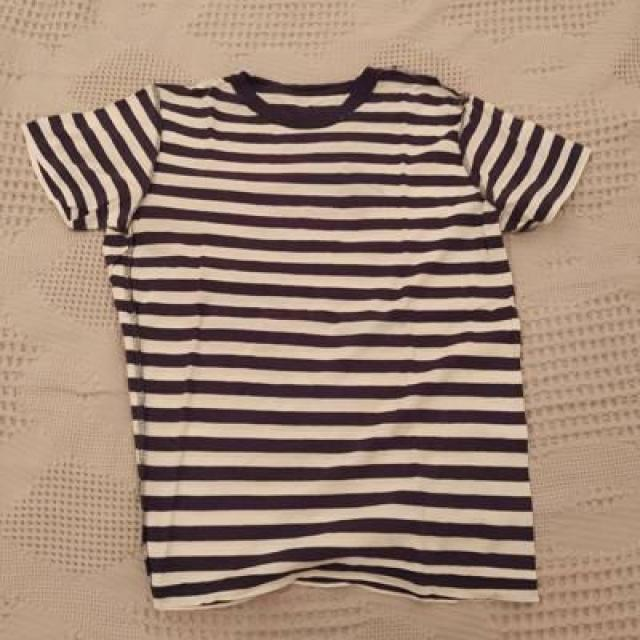shirt: (21, 66, 595, 614)
